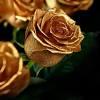rose: (18, 6, 85, 67)
